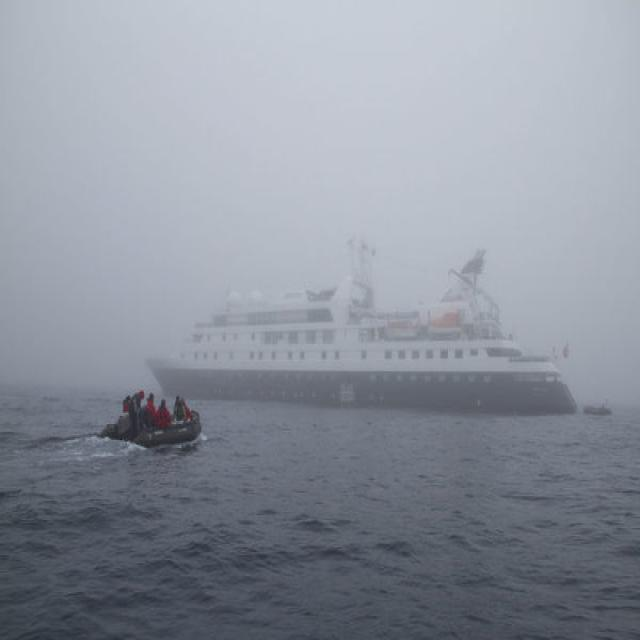passenger ship: (148, 244, 597, 400), (108, 378, 204, 438)
